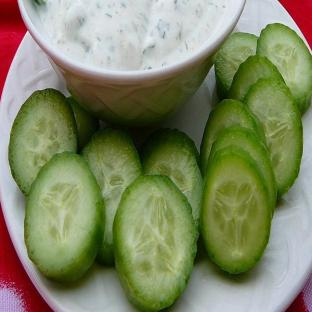Cucumber: (113, 176, 197, 310), (25, 152, 104, 281), (201, 146, 271, 273), (82, 128, 142, 265), (9, 89, 78, 195), (245, 79, 302, 196), (140, 129, 202, 228), (208, 126, 276, 216), (200, 100, 265, 176), (257, 24, 311, 113), (215, 33, 258, 99), (228, 55, 283, 101), (149, 129, 199, 165), (68, 97, 99, 152)
